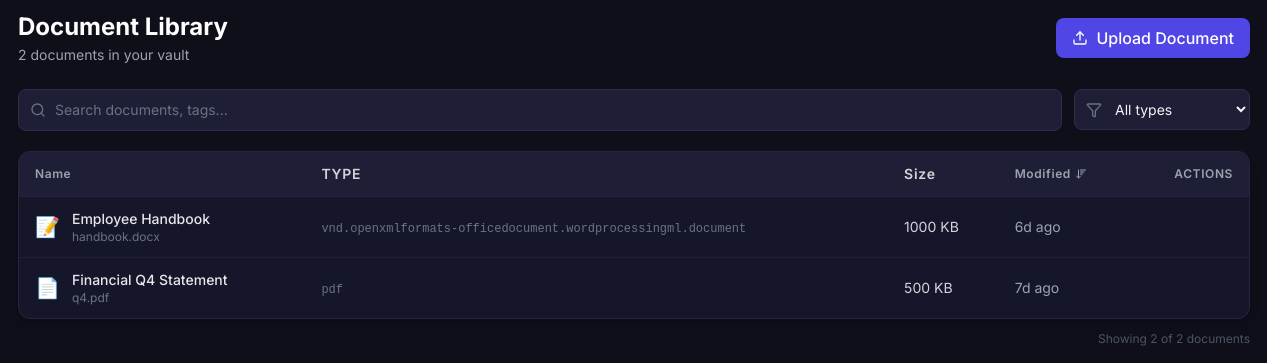
it: DocumentsPage › filters documents when searching
In the search field with placeholder "Search documents, tags...": (540, 110) [18,89,1062,131], type "Handbook"
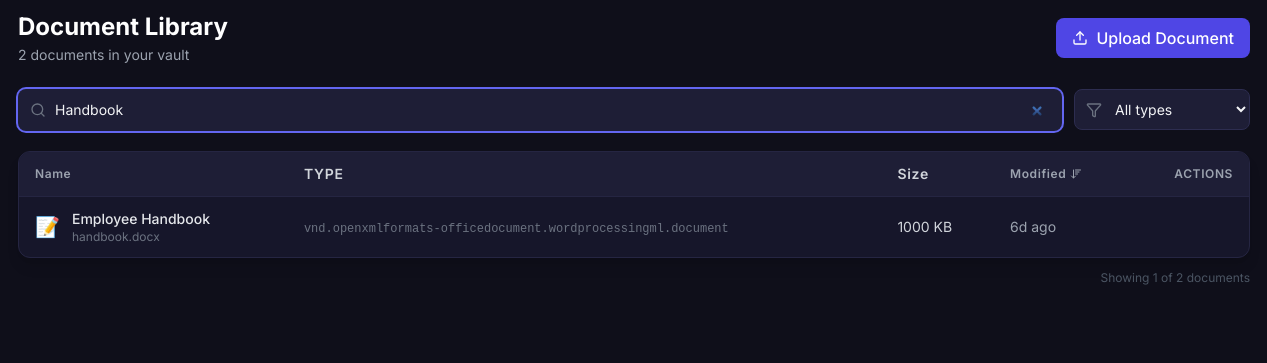
expect the link "Employee Handbook" is shown: met, box [72,209,210,229]
expect the link "Financial Q4 Statement" is gone: met
